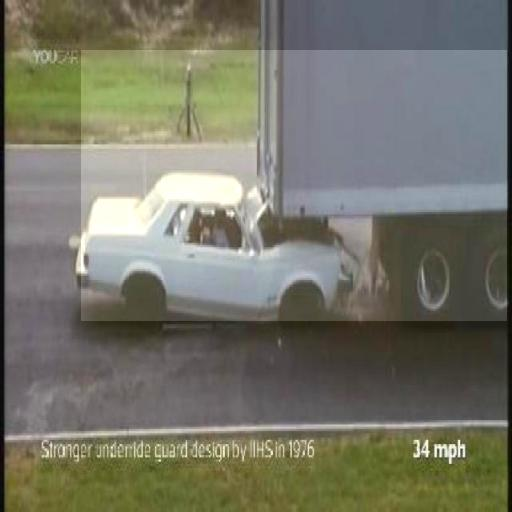小汽车撞小汽车: (81, 50, 507, 321)
